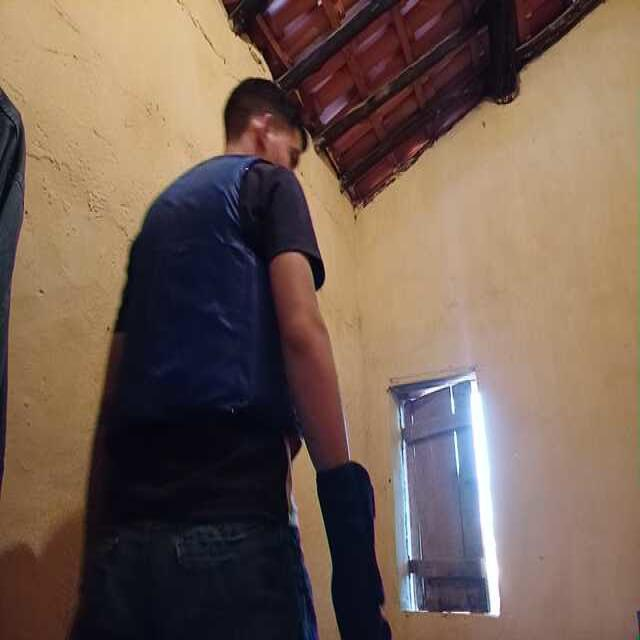colete: (119, 154, 298, 449)
pessoa: (99, 75, 347, 640)
